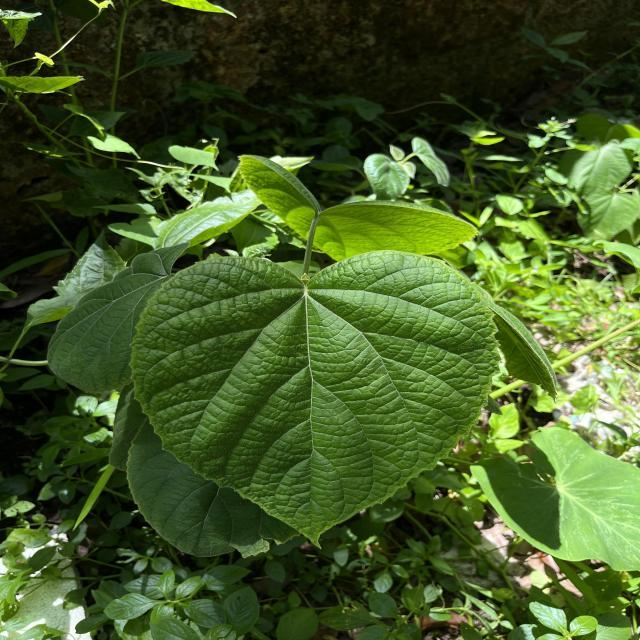Clerodendrum infortunatum: (126, 248, 502, 552)
